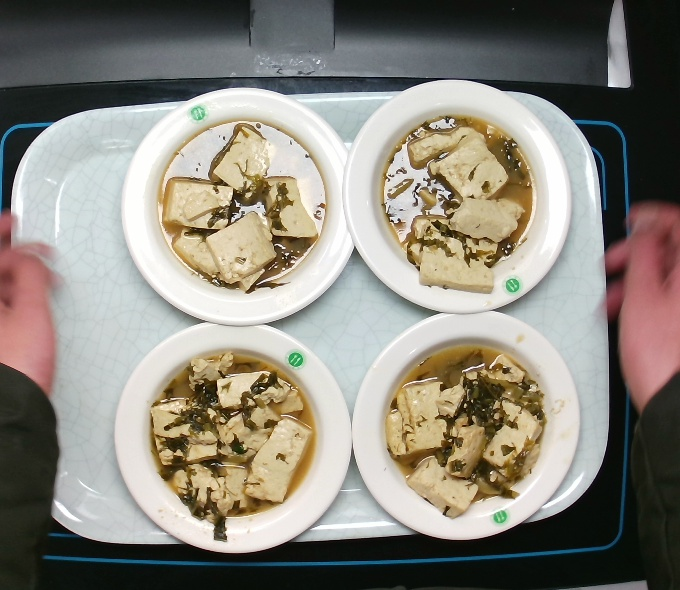wcq-XueCaiDouFu: (145, 347, 321, 546), (152, 116, 330, 298), (382, 339, 550, 522), (377, 114, 539, 297)
